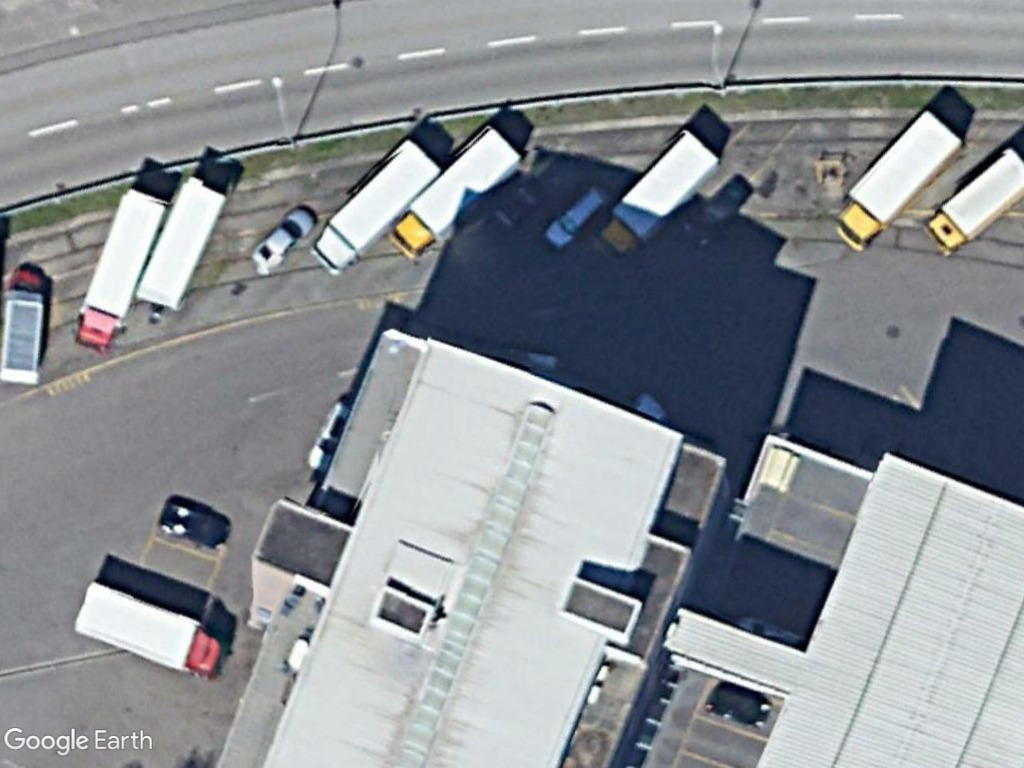car: (249, 201, 321, 274)
truck: (831, 108, 968, 252), (387, 122, 522, 264), (311, 136, 446, 277), (593, 127, 723, 259), (71, 186, 168, 357), (70, 579, 225, 683), (927, 141, 1022, 258), (0, 263, 46, 389)
